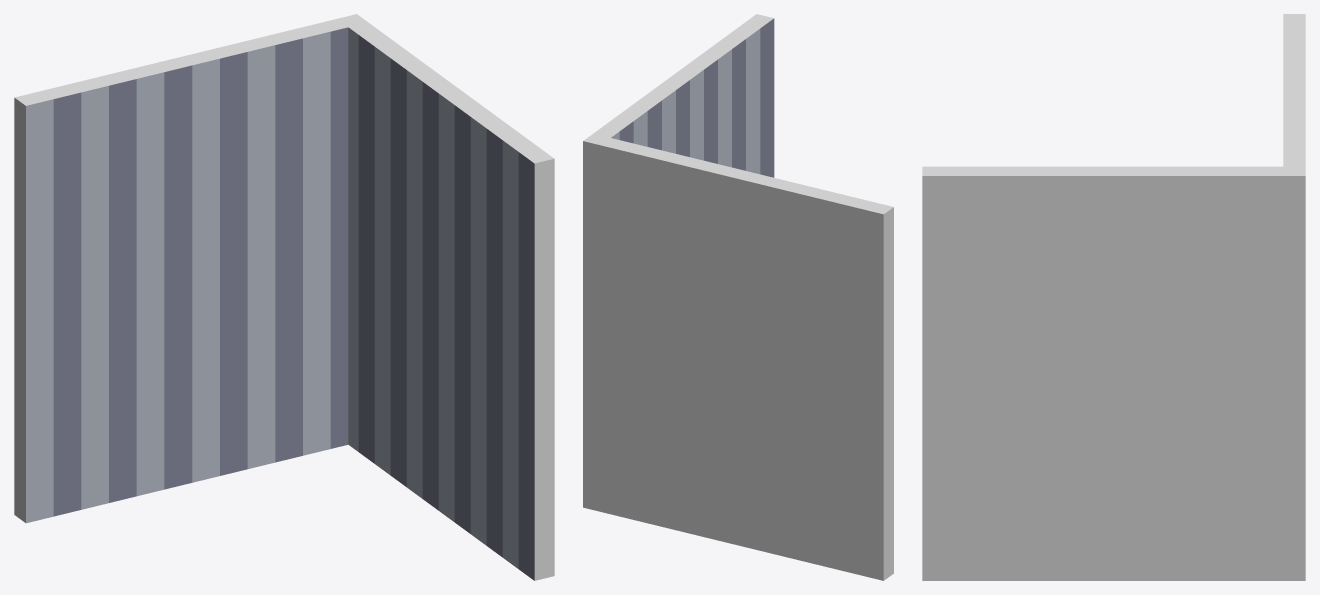
The model's file is Wall1_C8_06.fbx.
3 renders of one model, left to right at view 1: azimuth 30°, elevation 25°; view 2: azimuth 150°, elevation 25°; view 3: azimuth 270°, elevation 25°, orthographic. The views are drawn at different scales.
Visible parts, largest first — view 1: Wall1_C8_06; view 2: Wall1_C8_06; view 3: Wall1_C8_06.
Boxes of the visible parts, x1,y1,x2,y2 form: Wall1_C8_06: (14,14,554,580); Wall1_C8_06: (583,14,893,580); Wall1_C8_06: (922,14,1305,580).
Size of the model in its own units: 258 by 300 by 258.
